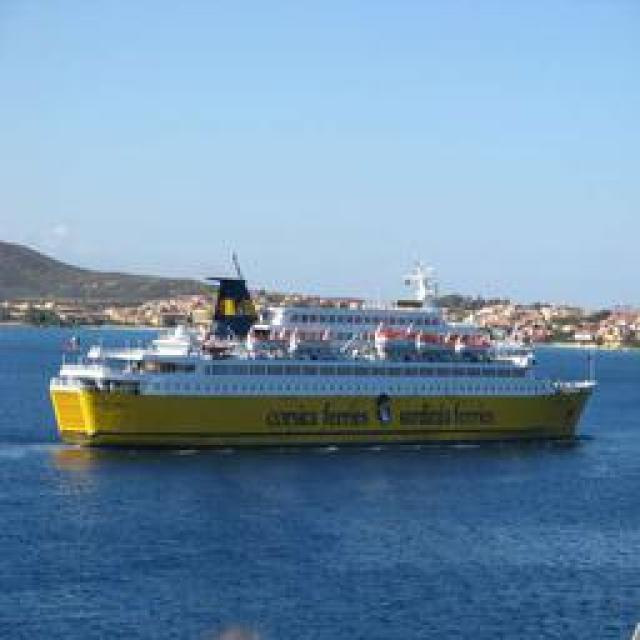ship2: (49, 251, 598, 447)
